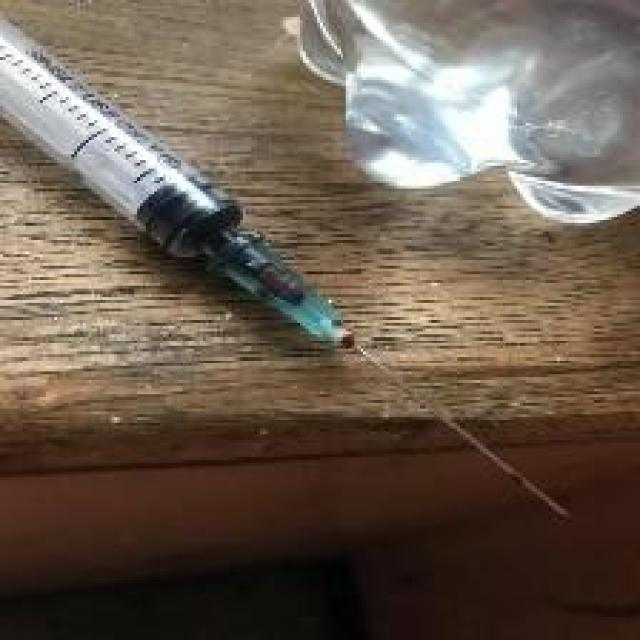syringe: (0, 2, 570, 513)
